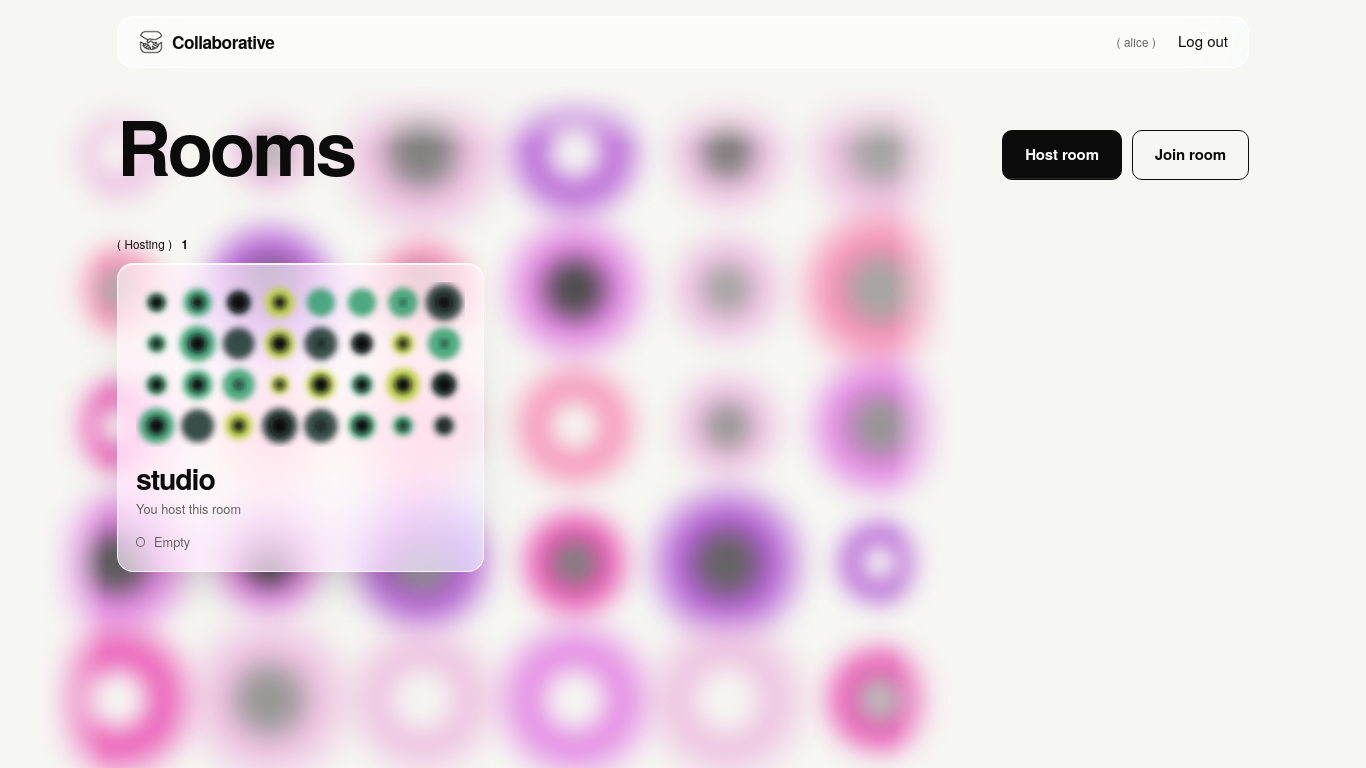
Scenario: a room › in a browser, points to the desktop app for launching Blender
The width and height of the screenshot is (1366, 768).
Click the button "studio You host this room Empty" at (300, 418), box [118,264,483,571]
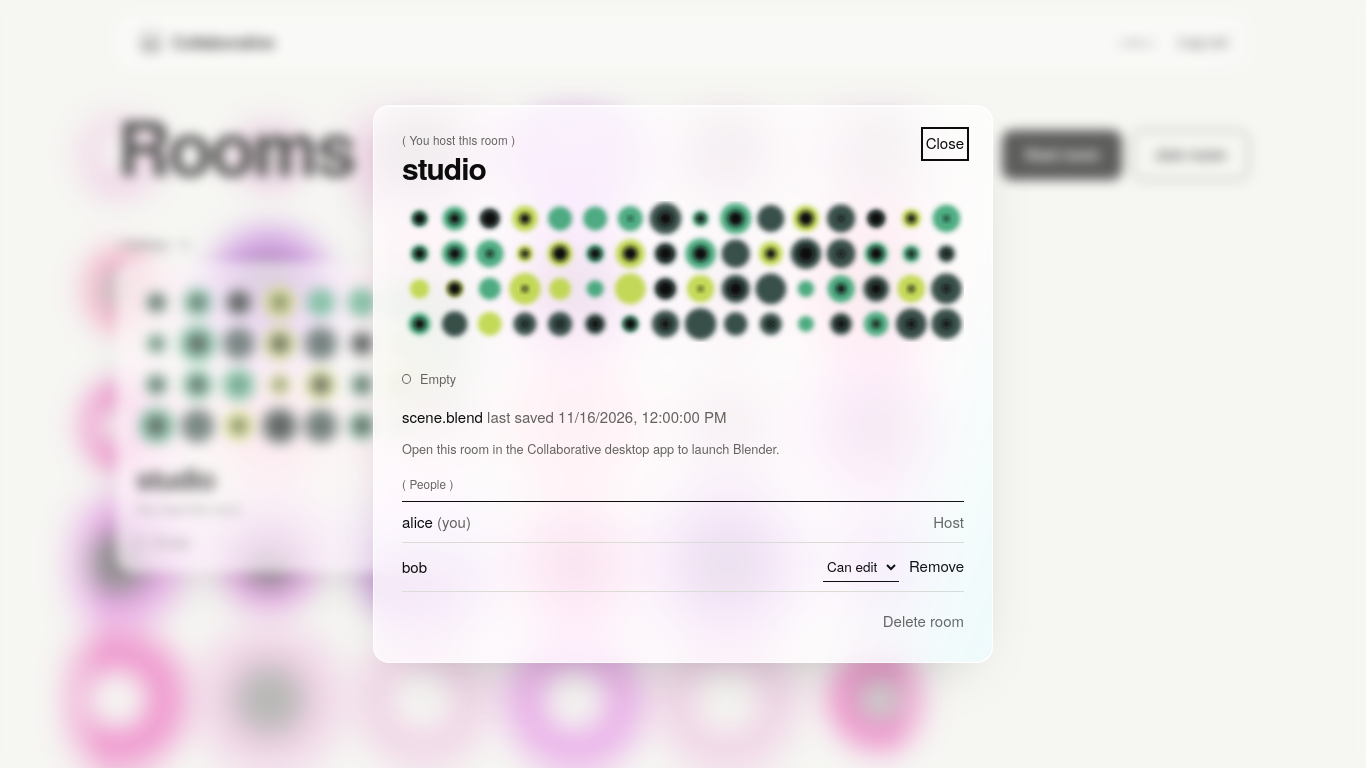
expect the text "desktop app to launch Blender" is shown: met, box [402,439,780,458]
